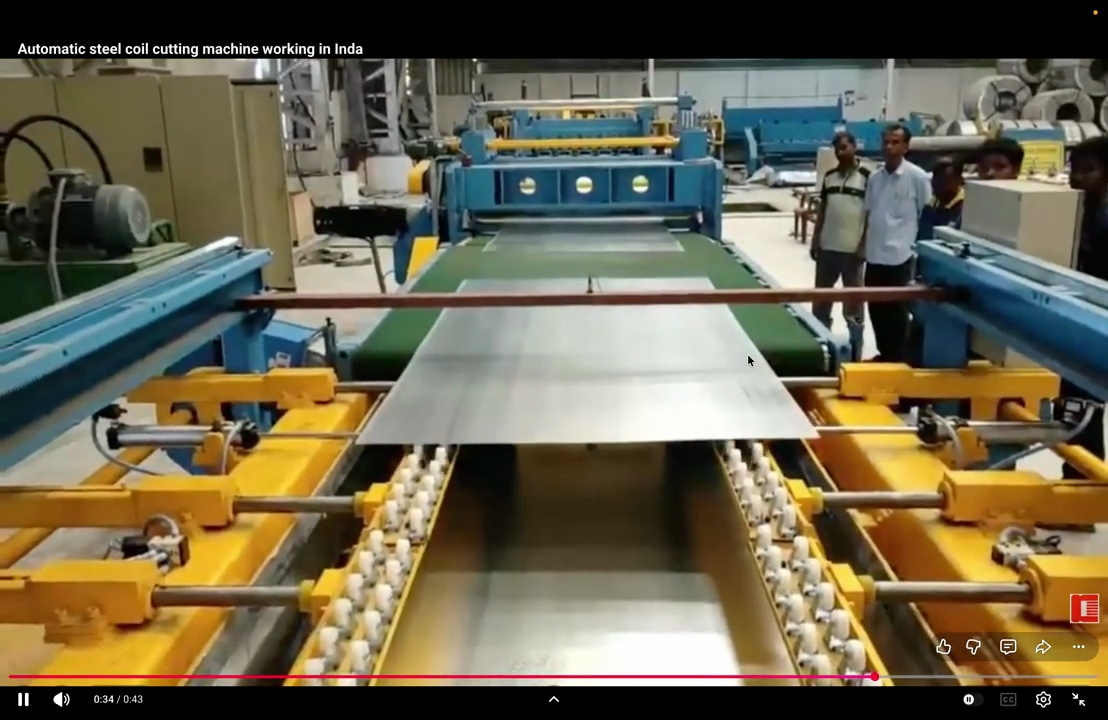steel plate: (357, 305, 815, 444), (485, 221, 682, 251)
